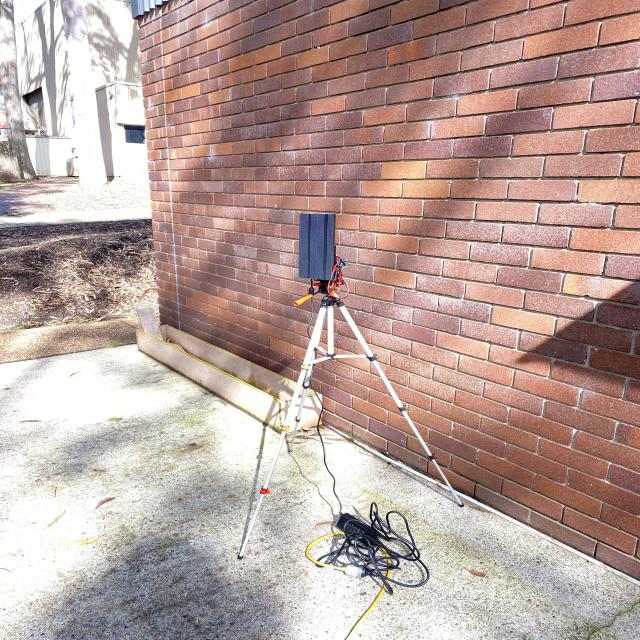matrix: (296, 212, 338, 284)
